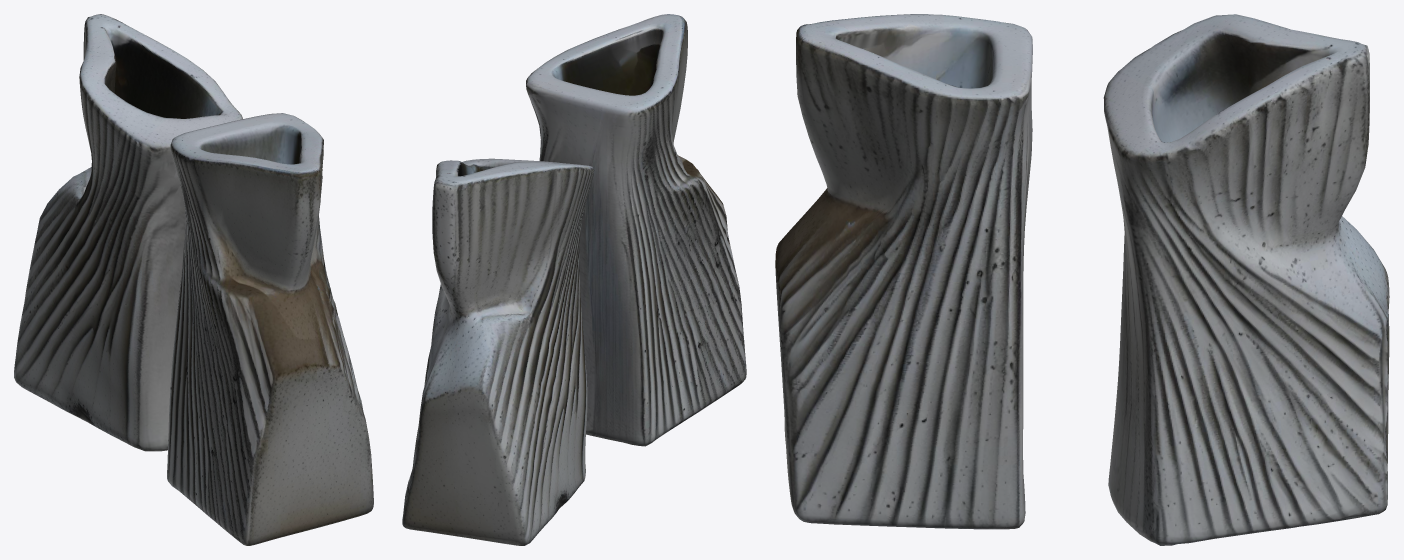
The model's file is salt_pepper_03.glb.
The picture shows the model from 3 angles, left to right: view 1: azimuth 30°, elevation 25°; view 2: azimuth 150°, elevation 25°; view 3: azimuth 270°, elevation 25°; orthographic projection. The views are drawn at different scales.
Visible parts, largest first — view 1: tripo_node_c5840b57-1c91-447c-b90c-59a704ec922e; view 2: tripo_node_c5840b57-1c91-447c-b90c-59a704ec922e; view 3: tripo_node_c5840b57-1c91-447c-b90c-59a704ec922e.
Boxes of the visible parts, bbox=[...] form: tripo_node_c5840b57-1c91-447c-b90c-59a704ec922e: bbox=[14, 14, 373, 545]; tripo_node_c5840b57-1c91-447c-b90c-59a704ec922e: bbox=[402, 14, 746, 545]; tripo_node_c5840b57-1c91-447c-b90c-59a704ec922e: bbox=[775, 14, 1389, 545].
Bounding box in the file's own units: 0.3606 × 0.7906 × 0.9451.
1 material, 1 textured.
